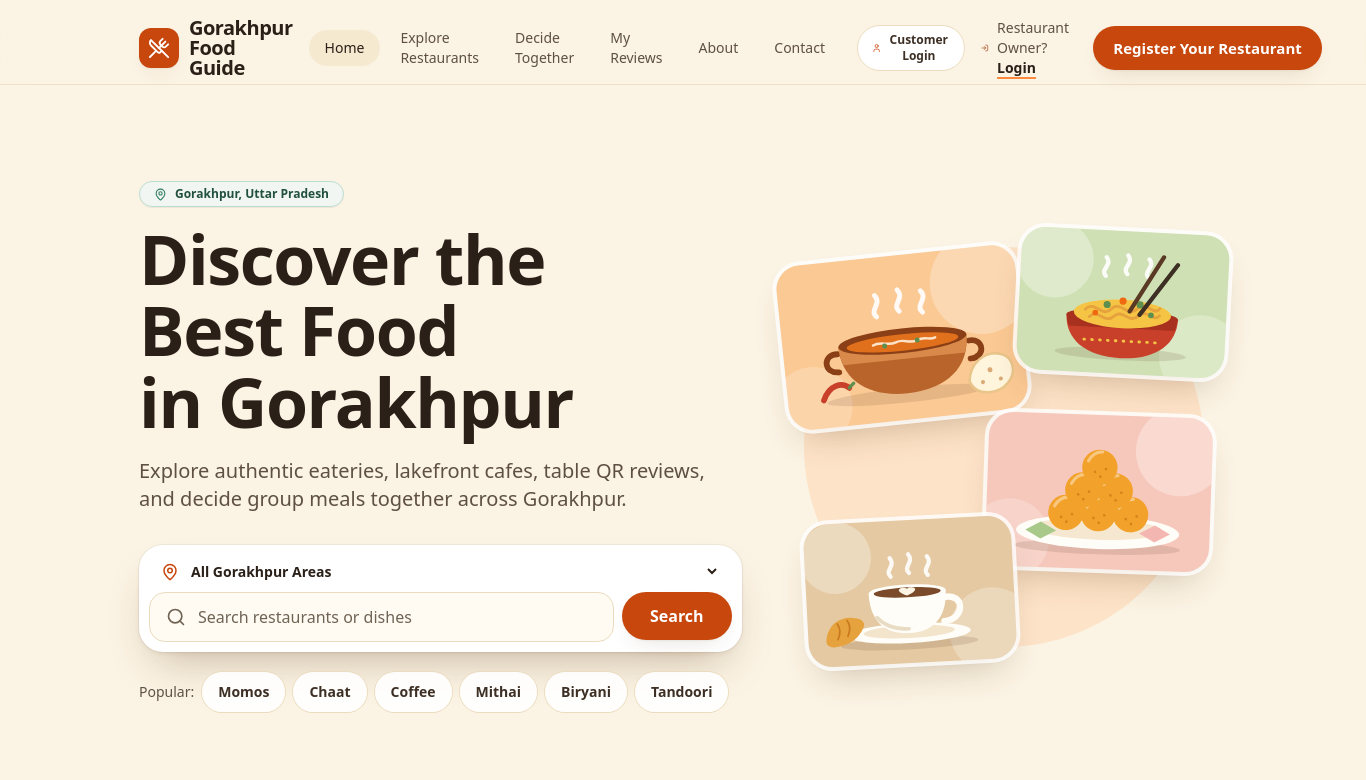
Scenario: App routing › opens the owner registration placeholder
Click the link "Register Your Restaurant" at (1208, 48), box x1=1093 y1=26 x2=1322 y2=70
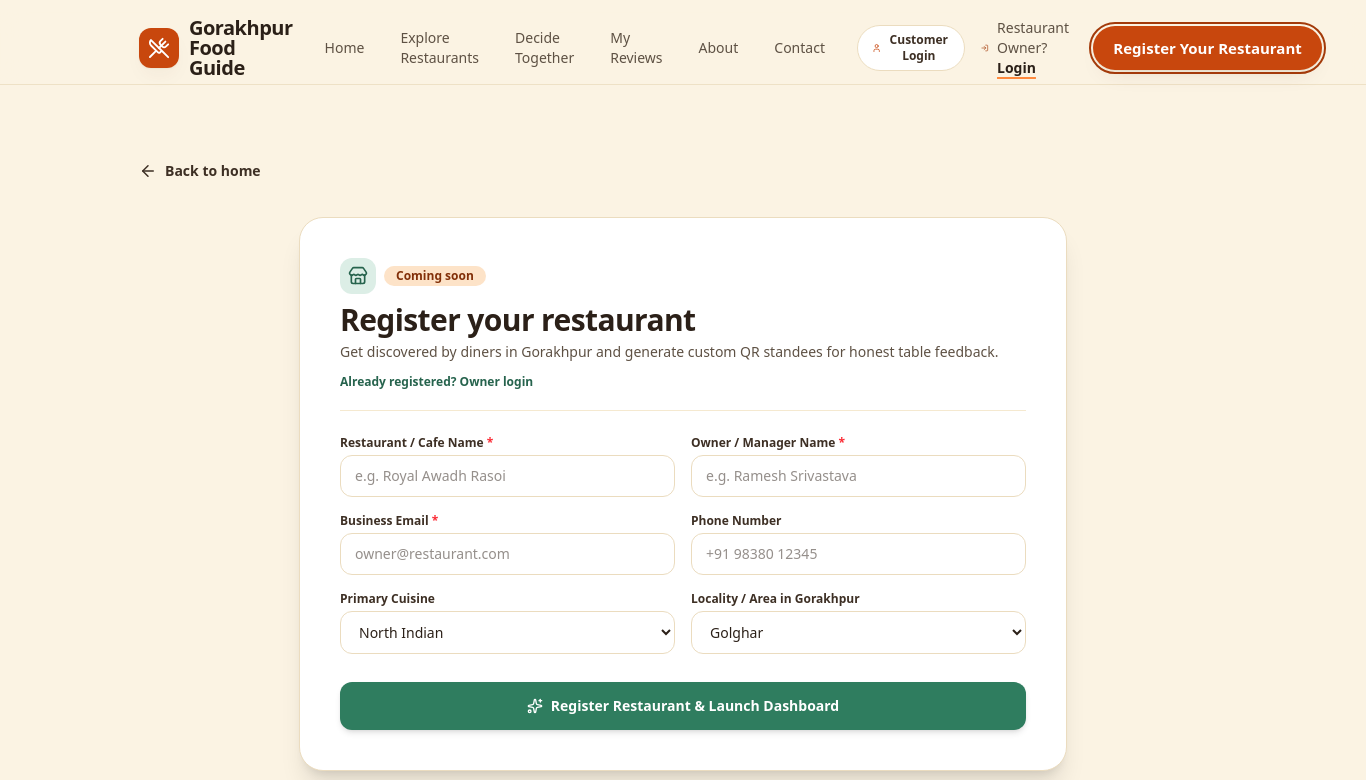
Check: the heading "Register your restaurant" is shown, box x1=340 y1=299 x2=696 y2=340
Check: the text "Coming soon" is shown, box x1=384 y1=266 x2=486 y2=286
